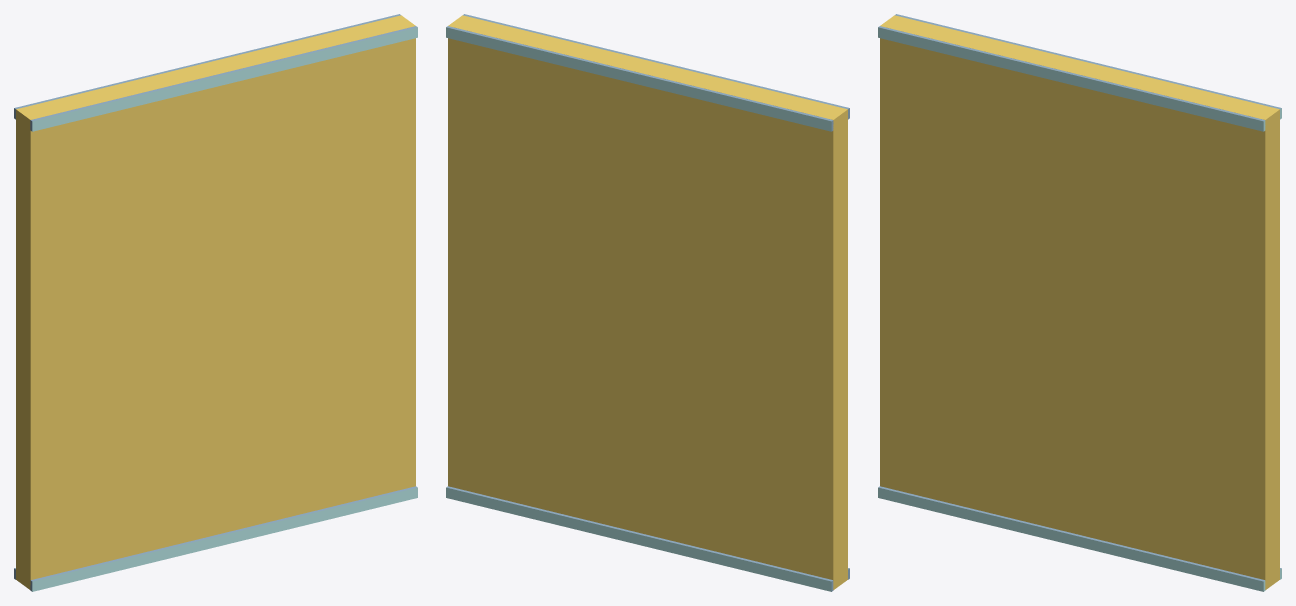
The model's file is Wall Plane .fbx.
3 renders of one model, left to right at view 1: azimuth 30°, elevation 25°; view 2: azimuth 150°, elevation 25°; view 3: azimuth 330°, elevation 25°, orthographic.
Parts seen in each view (by area): view 1: Wall Plane; view 2: Wall Plane; view 3: Wall Plane.
Part boxes in pixels (x1=…): Wall Plane: x1=14, y1=14, x2=417, y2=591; Wall Plane: x1=446, y1=14, x2=849, y2=591; Wall Plane: x1=878, y1=14, x2=1281, y2=591.
Bounding box in the file's own units: 600 × 700 × 49.07.
